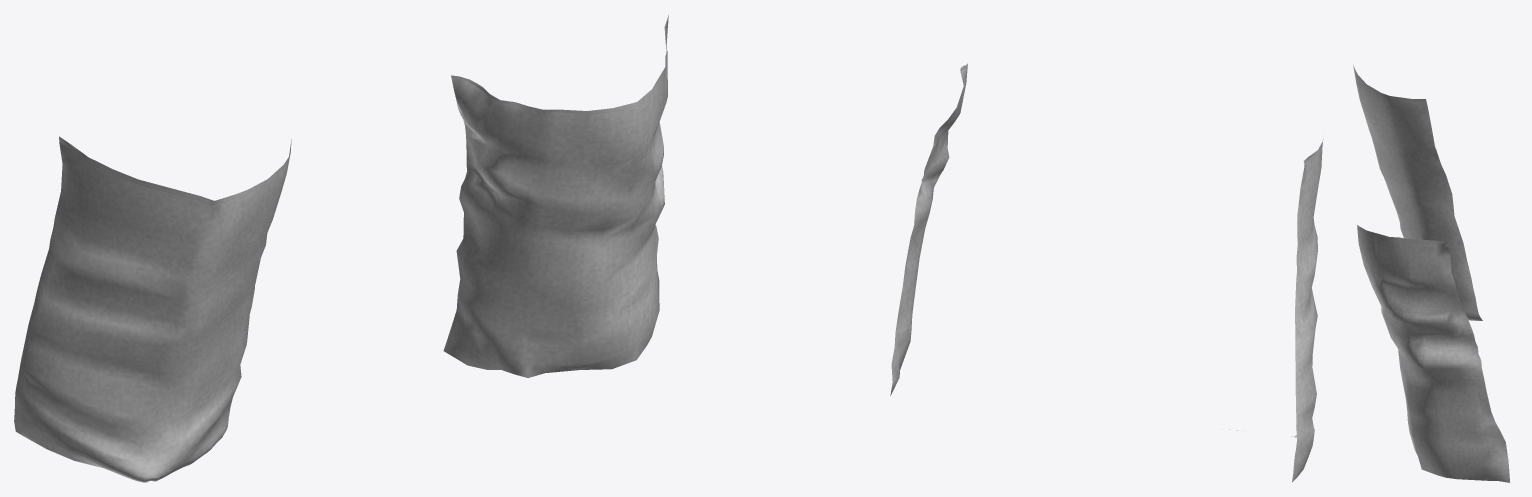
Rendered from Pants_Knee.glb.
3 renders of one model, left to right at view 1: azimuth 30°, elevation 25°; view 2: azimuth 150°, elevation 25°; view 3: azimuth 270°, elevation 25°, orthographic. The views are drawn at different scales.
Parts seen in each view (by area): view 1: Pants_Knee1, Rope1; view 2: Pants_Knee1; view 3: Pants_Knee1, Rope1.
Part boxes in pixels (x1,y1,x2,y2): Pants_Knee1: (14,15,668,482); Rope1: (59,15,668,204); Pants_Knee1: (890,63,1323,482); Pants_Knee1: (1353,65,1509,482); Rope1: (1353,66,1446,244).
Bounding box in the file's own units: 0.8076 × 0.4178 × 0.2413.
Materials: 2 (2 with a texture image).
